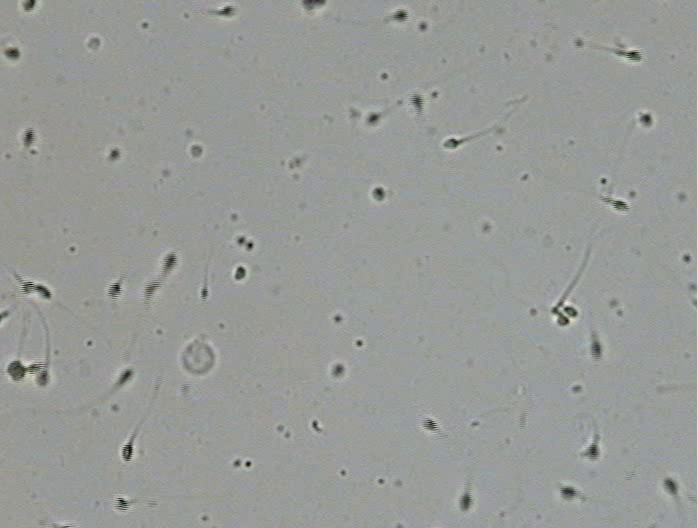Impurity: (182, 340, 214, 375), (87, 37, 100, 49)
S: (7, 360, 26, 381), (143, 279, 161, 300), (162, 253, 178, 273), (34, 283, 52, 300), (584, 443, 600, 461), (21, 128, 36, 147), (662, 477, 678, 494), (107, 282, 122, 300), (117, 369, 132, 387), (589, 340, 602, 360), (34, 369, 49, 386), (560, 485, 577, 500), (459, 491, 472, 510), (121, 442, 133, 462), (422, 417, 438, 432), (410, 92, 424, 109), (27, 362, 46, 374), (19, 279, 34, 294), (626, 49, 643, 62), (302, 1, 326, 10), (114, 497, 129, 511), (613, 200, 630, 212), (639, 113, 653, 127), (4, 47, 20, 59), (217, 6, 236, 16), (443, 138, 460, 149), (190, 144, 203, 158), (372, 187, 385, 201), (393, 9, 408, 21), (235, 266, 247, 280), (563, 306, 578, 317), (367, 112, 380, 124), (108, 149, 120, 161), (331, 364, 343, 376), (22, 1, 36, 11), (557, 315, 569, 326)
